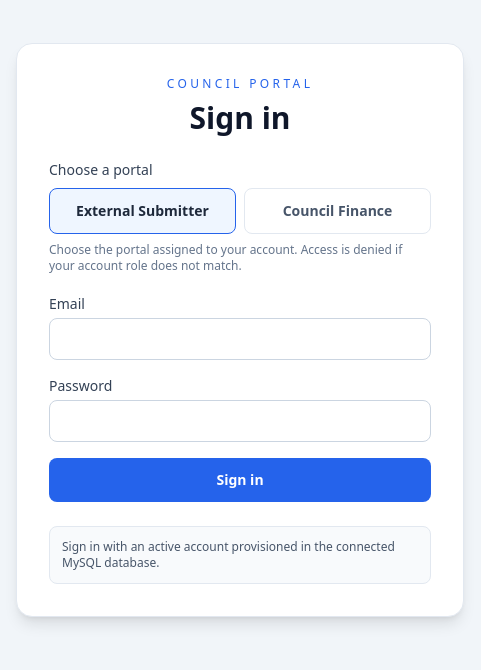
authentication session flows › shows invalid-credential errors and does not persist a token
The width and height of the screenshot is (481, 670).
Step 1. Type "unknown@example.org" into the field labelled "Email" → x=240, y=339, box [49,318,431,360]
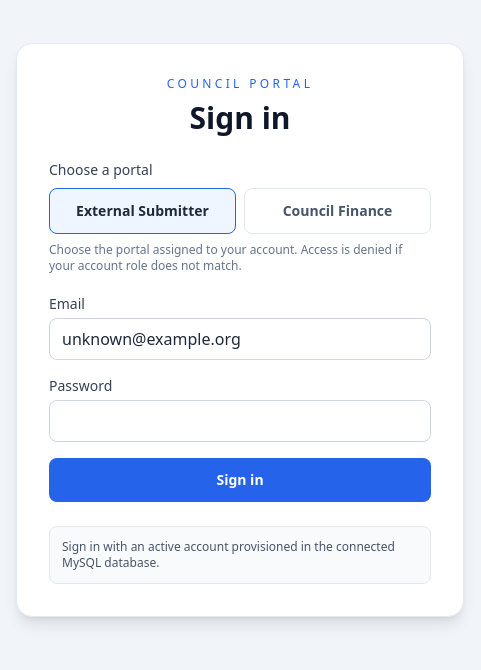
Step 2. Type "wrong-password" into the password field labelled "Password" → x=240, y=421, box [49,400,431,442]
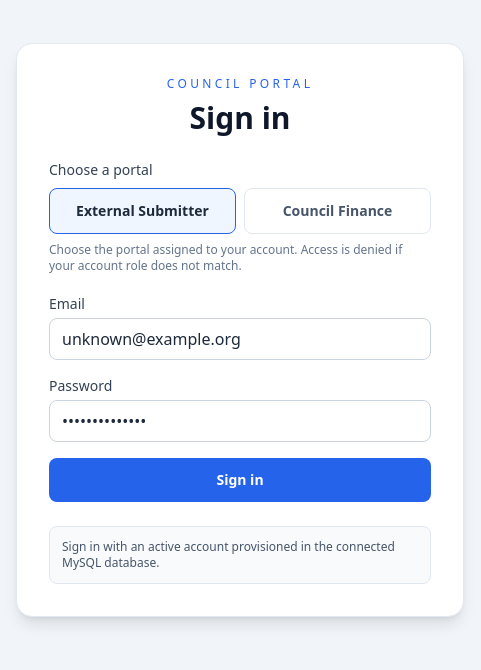
Step 3. Click the button "Sign in" → x=240, y=480, box [49,458,431,502]
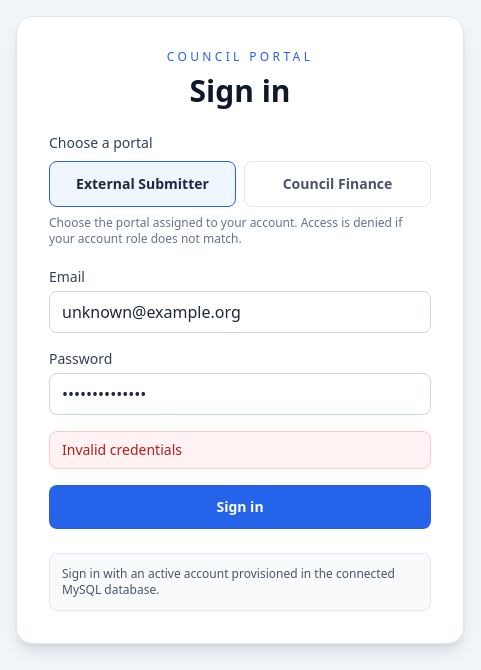
Result: the text "Invalid credentials" is shown at [49,431,431,469]
